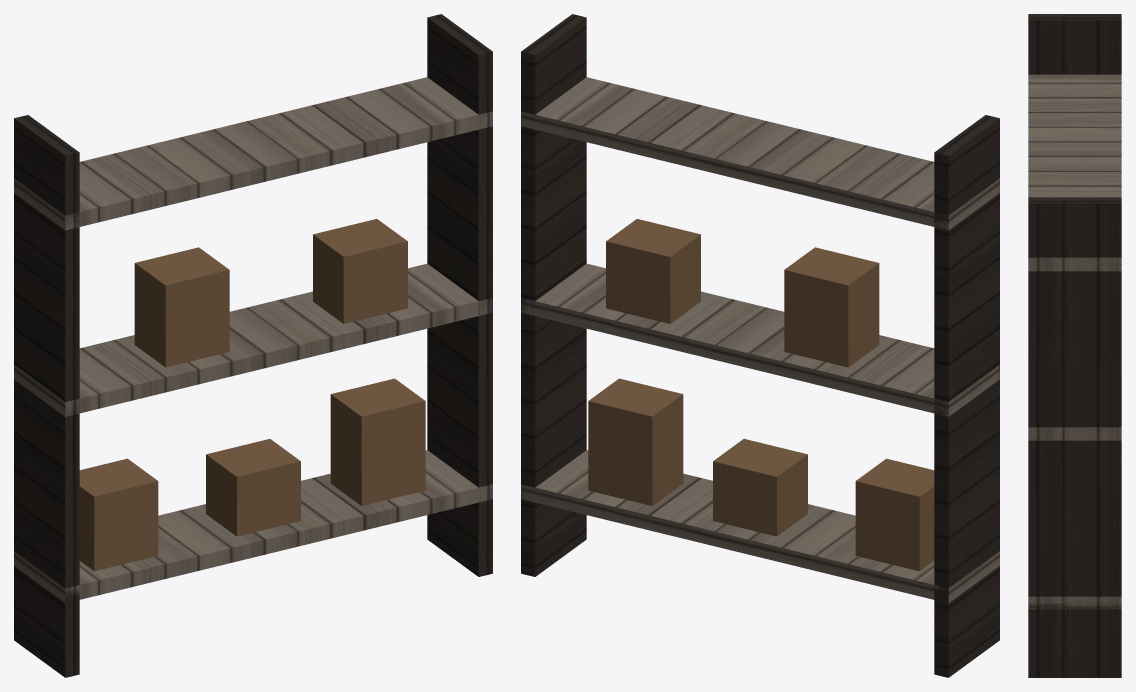
File: shelf_wall_01.glb
3 views of the same model, side by side, from view 1: azimuth 30°, elevation 25°; view 2: azimuth 150°, elevation 25°; view 3: azimuth 270°, elevation 25° (orthographic). The views are drawn at different scales.
Visible parts, largest first — view 1: shelf_wall_01; view 2: shelf_wall_01; view 3: shelf_wall_01.
Boxes of the visible parts, x1,y1,x2,y2 form: shelf_wall_01: (14, 14, 492, 677); shelf_wall_01: (521, 14, 999, 677); shelf_wall_01: (1028, 14, 1121, 677).
Size of the model in its own units: 1.2 by 1.4 by 0.25.
3 materials, 3 textured.
